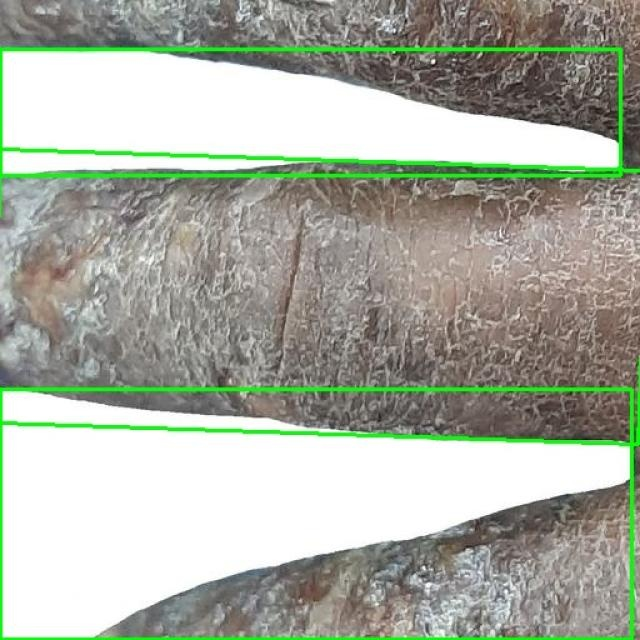Eczema: (0, 149, 640, 444), (0, 389, 631, 639), (0, 49, 620, 175)
